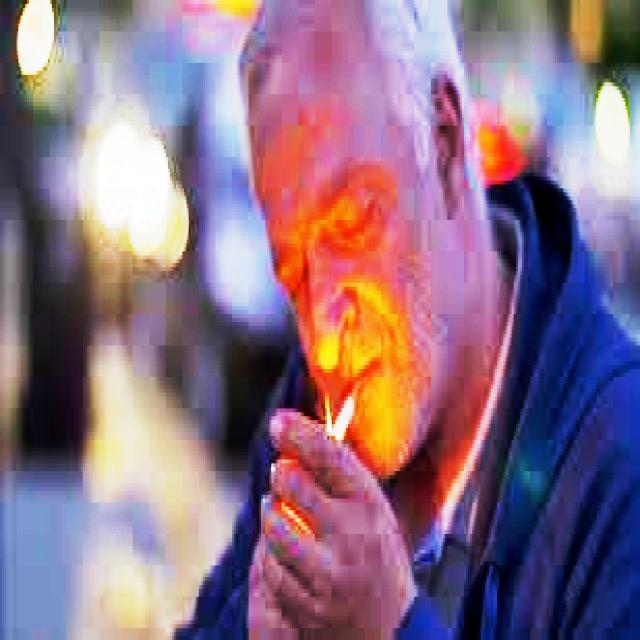api: (312, 390, 339, 441)
